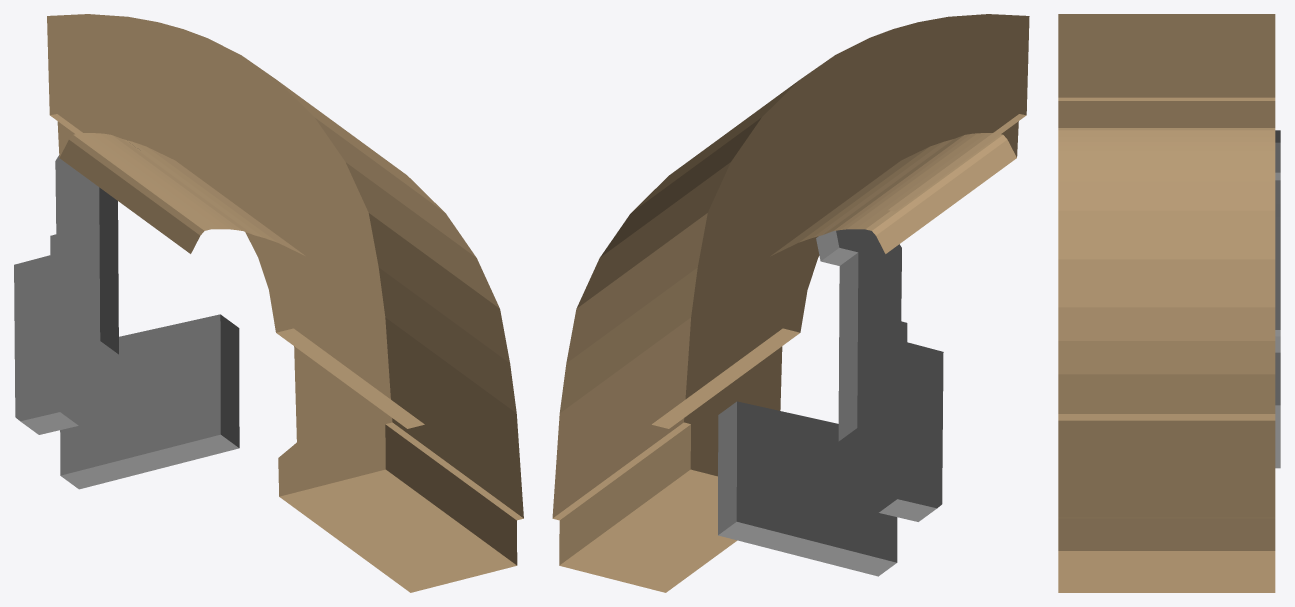
3 views of the same model, side by side, from view 1: azimuth 30°, elevation 25°; view 2: azimuth 150°, elevation 25°; view 3: azimuth 270°, elevation 25° (orthographic). The views are drawn at different scales.
Parts seen in each view (by area): view 1: 0_0_2_0_0_1_0_2_3; view 2: 0_0_2_0_0_1_0_2_3; view 3: 0_0_2_0_0_1_0_2_3.
Boxes of the visible parts, x1,y1,x2,y2 form: 0_0_2_0_0_1_0_2_3: (14,14,523,592); 0_0_2_0_0_1_0_2_3: (552,14,1029,592); 0_0_2_0_0_1_0_2_3: (1058,14,1280,592).
Size of the model in its own units: 34.62 by 47.36 by 21.5.
